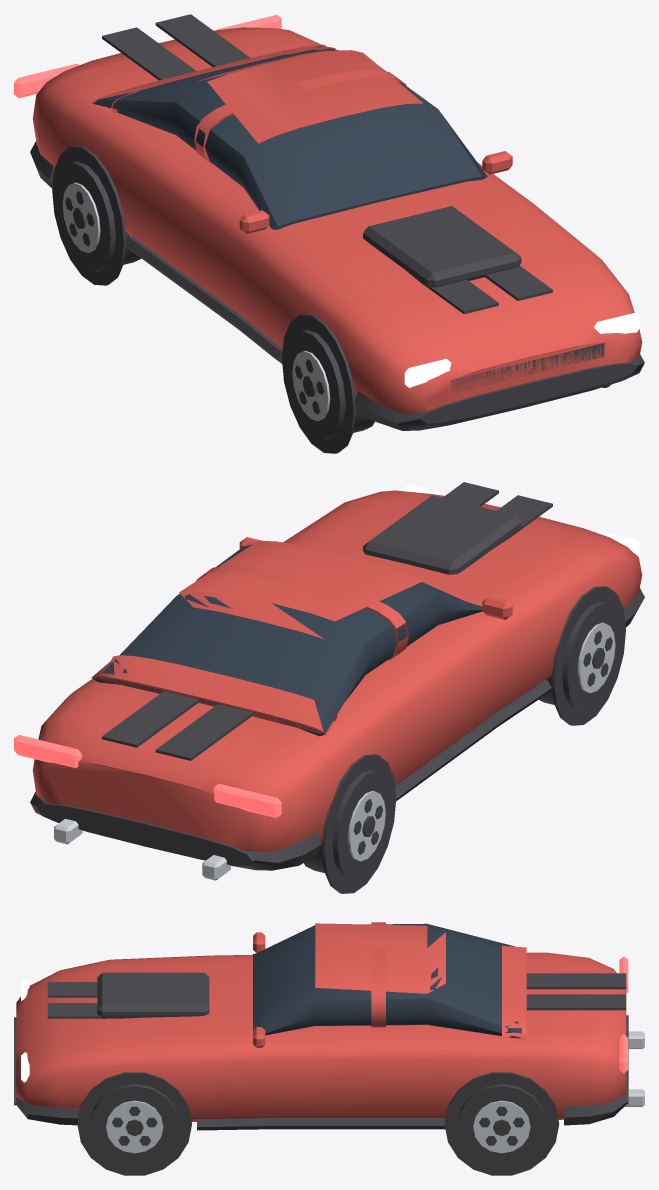
File: car_muscle.glb
3 views of the same model, one above another, from view 1: azimuth 30°, elevation 25°; view 2: azimuth 150°, elevation 25°; view 3: azimuth 270°, elevation 25° (orthographic). The views are drawn at different scales.
Parts seen in each view (by area): view 1: body, cabin, roof, scoop, bumperF, wheel_FR, wheel_RR, arch.002, arch.003, skirts, stripe_t.001, stripe_t (+8 smaller); view 2: body, cabin, roof, scoop, pillarC, bumperR, wheel_RR, wheel_FR, arch.003, arch.002, skirts, stripe_t (+6 smaller); view 3: body, cabin, roof, wheel_RL, wheel_FL, scoop, arch.001, arch, skirts, pillarC, stripe_t, stripe_t.001 (+5 smaller).
Part boxes in pixels (x1=…): body: x1=32, y1=27, x2=642, y2=413; cabin: x1=93, y1=46, x2=487, y2=229; roof: x1=196, y1=50, x2=422, y2=143; scoop: x1=363, y1=206, x2=521, y2=287; bumperF: x1=354, y1=354, x2=644, y2=430; wheel_FR: x1=284, y1=329, x2=374, y2=440; wheel_RR: x1=54, y1=161, x2=141, y2=272; arch.002: x1=282, y1=314, x2=356, y2=453; arch.003: x1=52, y1=146, x2=126, y2=285; skirts: x1=125, y1=236, x2=282, y2=363; stripe_t.001: x1=102, y1=27, x2=196, y2=80; stripe_t: x1=155, y1=14, x2=250, y2=66; body: x1=32, y1=490, x2=642, y2=852; cabin: x1=93, y1=544, x2=482, y2=736; roof: x1=179, y1=540, x2=423, y2=639; scoop: x1=363, y1=495, x2=521, y2=574; pillarC: x1=91, y1=655, x2=337, y2=735; bumperR: x1=30, y1=792, x2=320, y2=870; wheel_RR: x1=304, y1=769, x2=393, y2=880; wheel_FR: x1=539, y1=601, x2=623, y2=712; arch.003: x1=322, y1=754, x2=396, y2=893; arch.002: x1=551, y1=586, x2=625, y2=725; skirts: x1=395, y1=680, x2=551, y2=801; stripe_t: x1=102, y1=691, x2=199, y2=747; body: x1=16, y1=952, x2=626, y2=1121; cabin: x1=253, y1=923, x2=521, y2=1038; roof: x1=315, y1=923, x2=445, y2=993; wheel_RL: x1=457, y1=1084, x2=546, y2=1166; wheel_FL: x1=90, y1=1084, x2=179, y2=1167; scoop: x1=97, y1=972, x2=209, y2=1018; arch.001: x1=444, y1=1072, x2=559, y2=1175; arch: x1=77, y1=1072, x2=191, y2=1175; skirts: x1=197, y1=1118, x2=445, y2=1130; pillarC: x1=502, y1=945, x2=526, y2=1040; stripe_t: x1=526, y1=994, x2=626, y2=1010; stripe_t.001: x1=526, y1=973, x2=626, y2=989.
Size of the model in its own units: 2.16 by 1.55 by 5.07.
